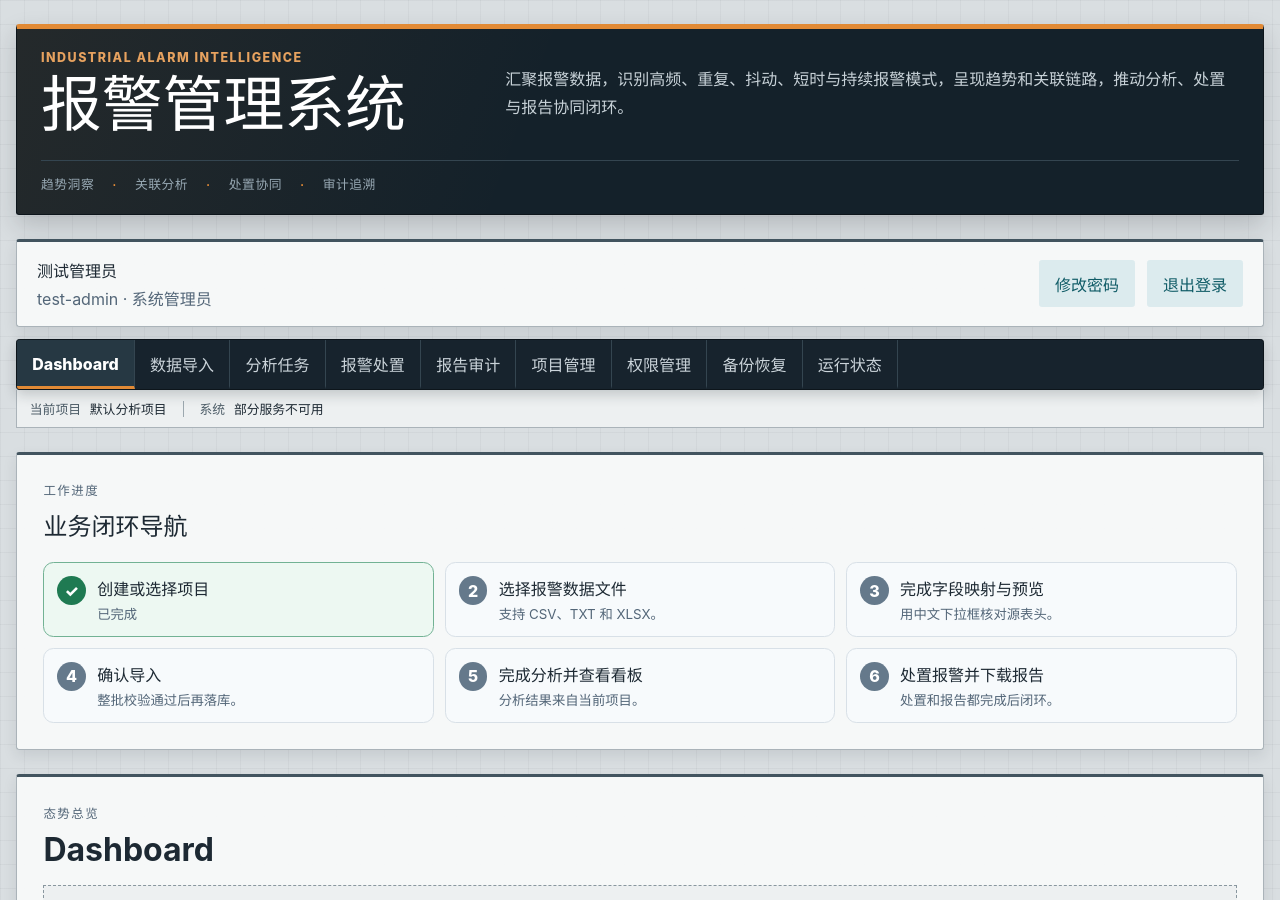
Test: M1 状态页 › DOWN 提供操作提示且缺失状态不推断为成功
This screenshot has width=1280, height=900.
Click the tab with test id "workspace-tab-status": x=850, y=365 [803,340,898,390]
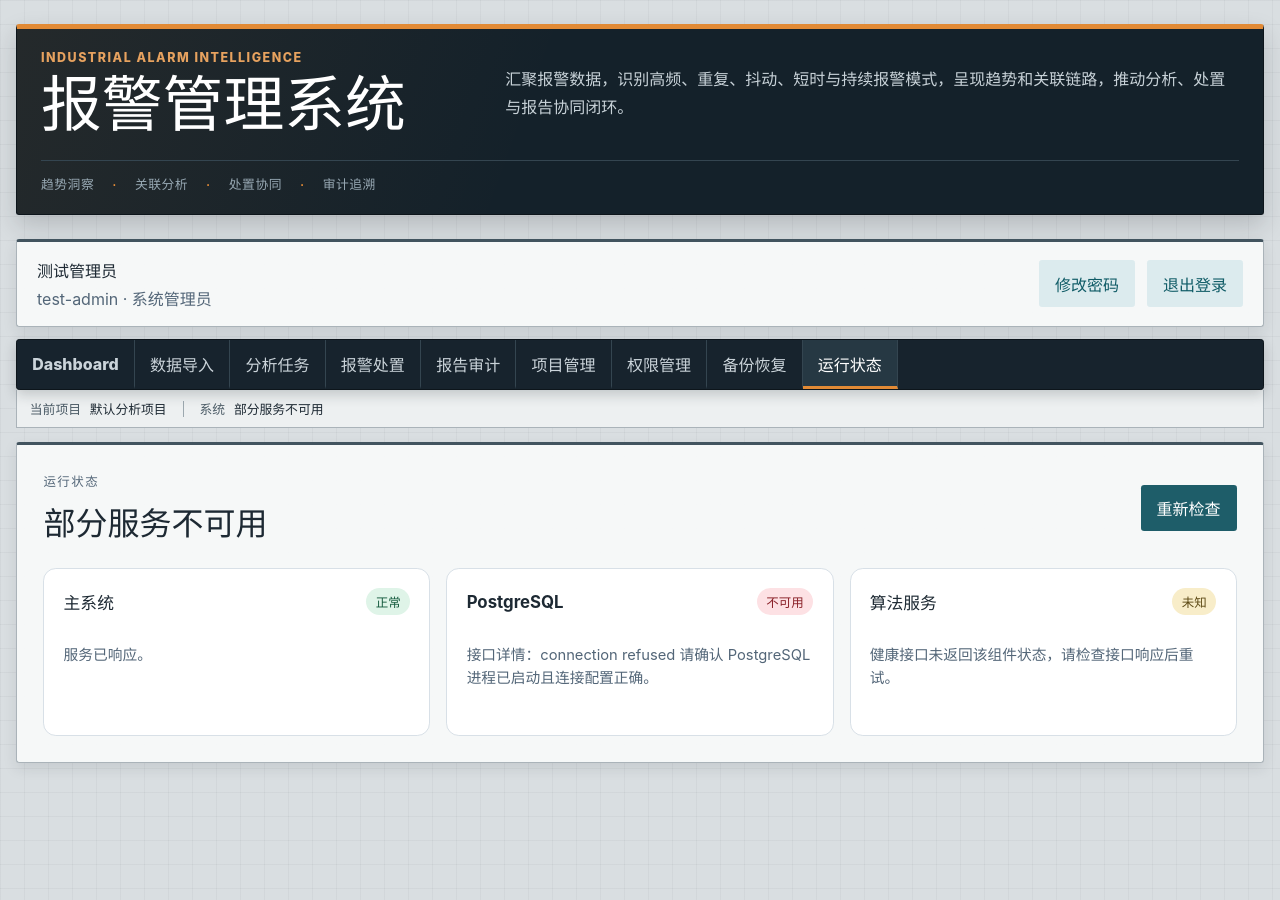
Expected: the text named "PostgreSQL状态 不可用" is shown, [757,588,813,615]
Expected: the heading "部分服务不可用" is shown, [43,498,267,544]
Expected: the text "接口详情：connection refused 请确认 PostgreSQL 进程已启动且连接配置正确。" is shown, [467,644,813,689]
